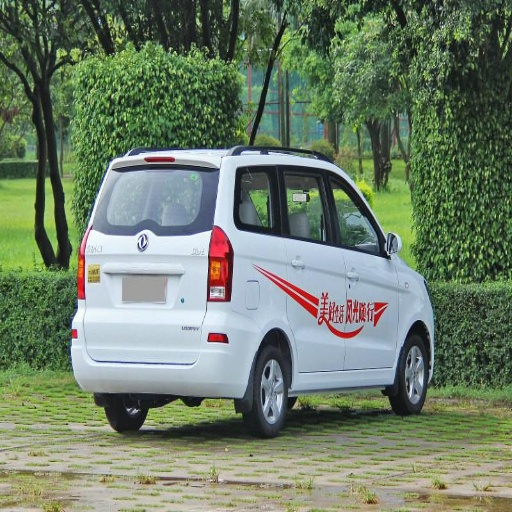back_bumper: (70, 302, 261, 394)
back_right_door: (238, 165, 346, 369)
tailgate: (86, 229, 203, 296)
trunk: (81, 230, 214, 354)
